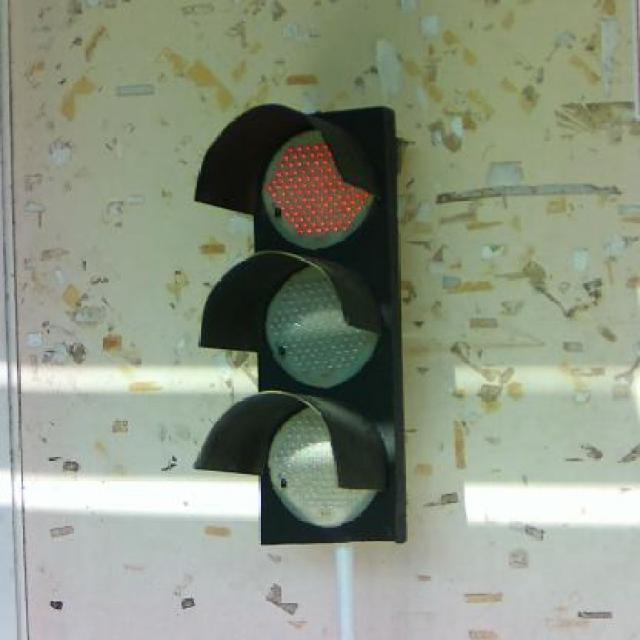red: (189, 98, 432, 549)
